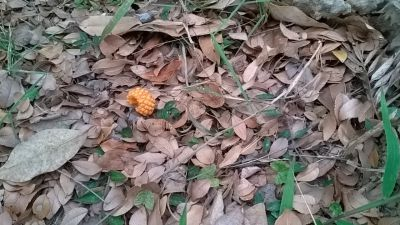eggs: (127, 87, 157, 117)
